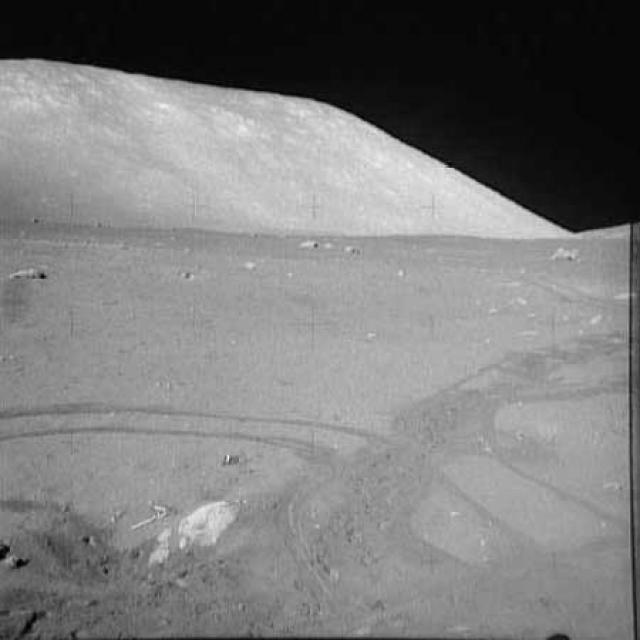rock: (144, 490, 252, 565), (298, 234, 371, 262), (8, 258, 49, 288), (548, 246, 582, 264)
